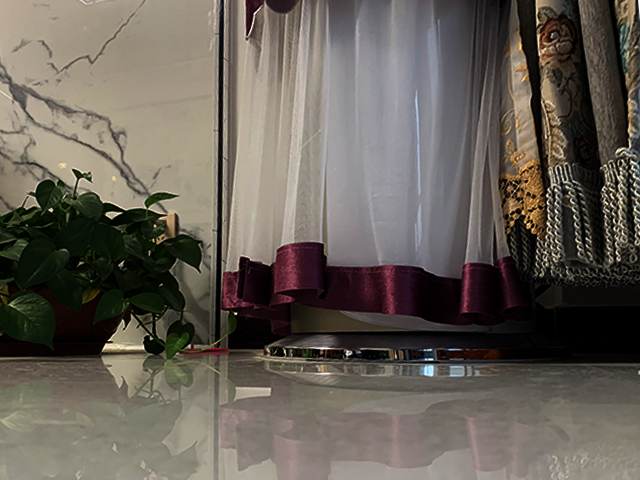curtain: (225, 1, 509, 315), (496, 1, 640, 290)
